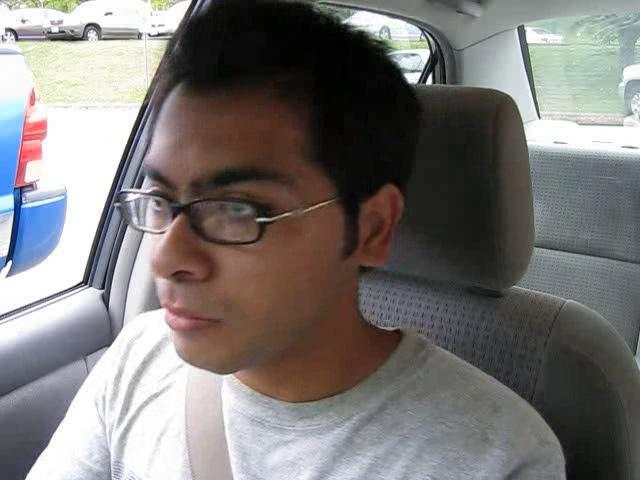no_yawn: (147, 295, 234, 344)
open_eyeL: (122, 184, 184, 234)
open_eyeR: (194, 186, 282, 246)
